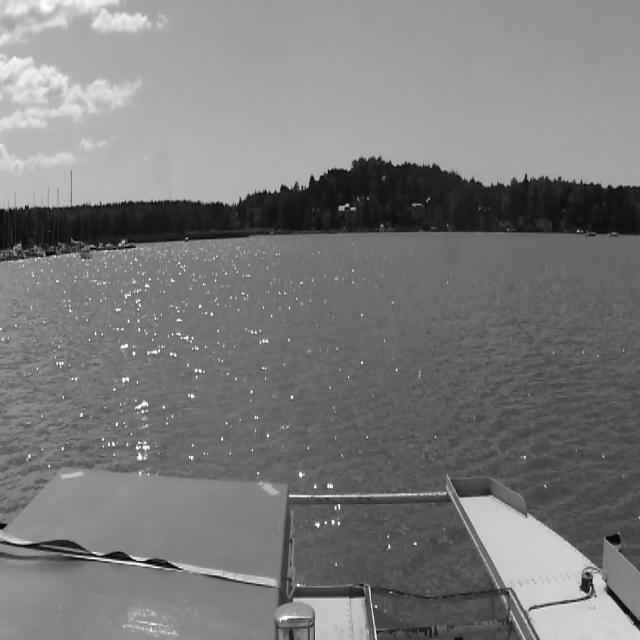ship: (81, 248, 93, 259), (96, 239, 104, 251)
